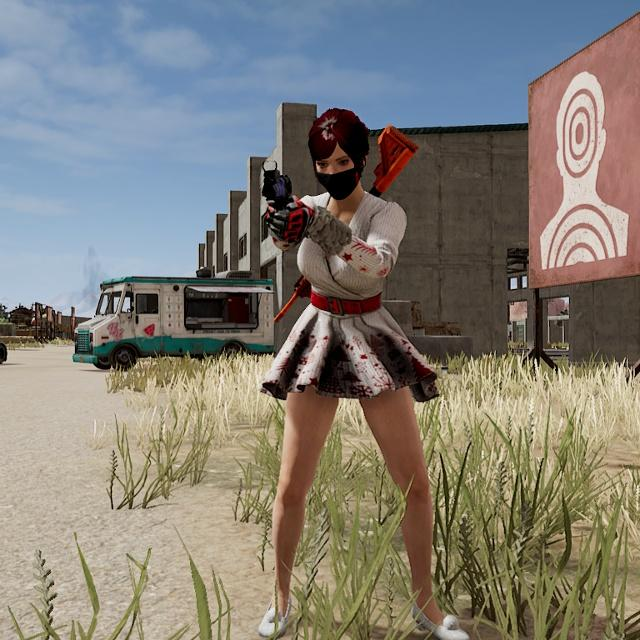head: (303, 99, 371, 200)
people: (252, 93, 474, 640)
